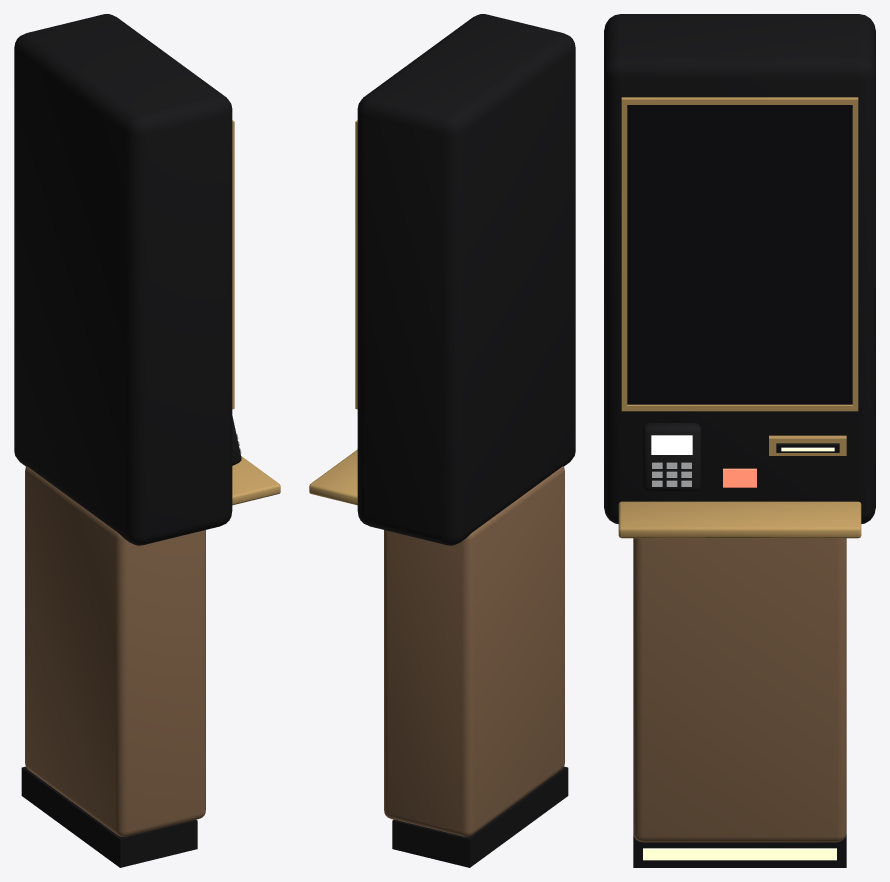
Rendered from ticket_kiosk.glb.
The picture shows the model from 3 angles, left to right: view 1: azimuth 30°, elevation 25°; view 2: azimuth 150°, elevation 25°; view 3: azimuth 270°, elevation 25°; orthographic projection. The views are drawn at different scales.
Parts seen in each view (by area): view 1: Head_LOD0, Pedestal_LOD0, Plinth_LOD0, Shelf_LOD0, ScreenFrame_LOD0.002; view 2: Head_LOD0, Pedestal_LOD0, Plinth_LOD0, Shelf_LOD0, ScreenFrame_LOD0.003; view 3: ScreenGlass_LOD0, Pedestal_LOD0, Head_LOD0, Shelf_LOD0, Plinth_LOD0, Terminal_LOD0, ToeLight_LOD0, ScreenFrame_LOD0.002, ScreenFrame_LOD0.003, ScreenFrame_LOD0.001, ScreenFrame_LOD0, SlotBezel_LOD0 (+2 smaller).
Boxes of the visible parts, x1,y1,x2,y2 form: Head_LOD0: (14, 14, 232, 545); Pedestal_LOD0: (25, 466, 205, 836); Plinth_LOD0: (21, 766, 197, 867); Shelf_LOD0: (232, 456, 280, 505); ScreenFrame_LOD0.002: (232, 126, 234, 404); Head_LOD0: (357, 14, 575, 545); Pedestal_LOD0: (384, 466, 564, 836); Plinth_LOD0: (392, 766, 568, 867); Shelf_LOD0: (309, 449, 357, 505); ScreenFrame_LOD0.003: (355, 126, 357, 404); ScreenGlass_LOD0: (627, 105, 852, 404); Pedestal_LOD0: (633, 538, 846, 842); Head_LOD0: (604, 14, 875, 523); Shelf_LOD0: (618, 501, 861, 538); Plinth_LOD0: (633, 834, 846, 867); Terminal_LOD0: (643, 423, 700, 491); ToeLight_LOD0: (643, 848, 836, 860); ScreenFrame_LOD0.002: (621, 105, 627, 405); ScreenFrame_LOD0.003: (852, 105, 858, 405); ScreenFrame_LOD0.001: (621, 97, 858, 104); ScreenFrame_LOD0: (621, 404, 858, 411); SlotBezel_LOD0: (769, 435, 846, 455).
Bounding box in the file's own units: 0.4 × 1.86 × 0.56.
